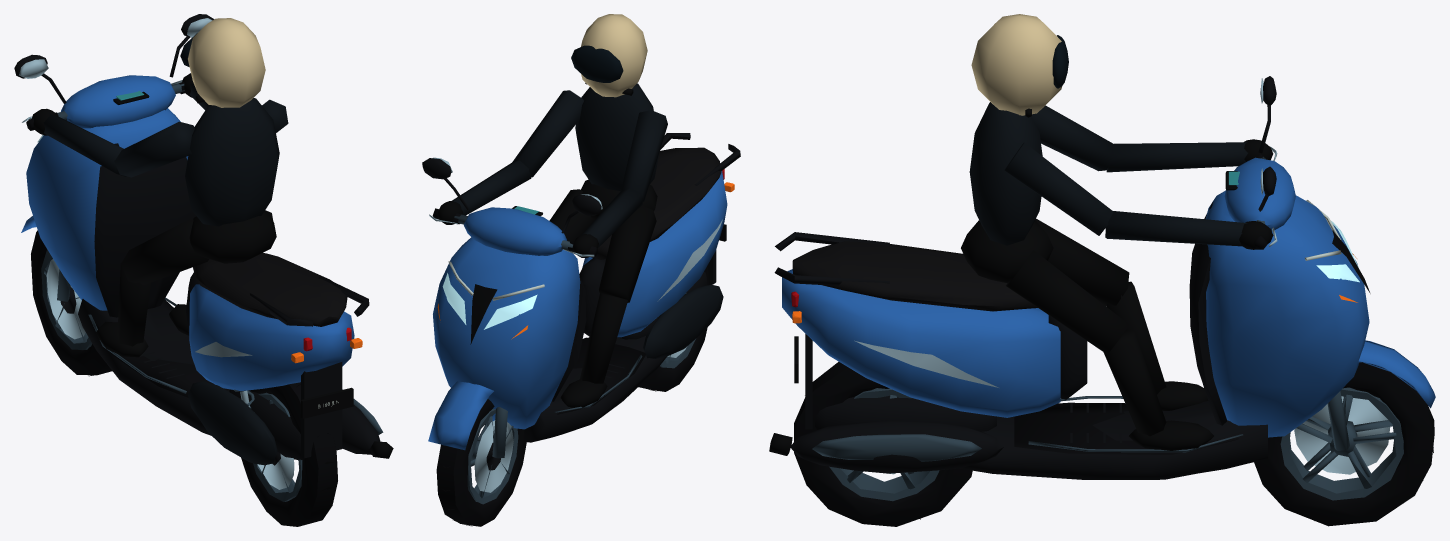
Rendered from Body_LOD1.fbx.
3 renders of one model, left to right at view 1: azimuth 30°, elevation 25°; view 2: azimuth 150°, elevation 25°; view 3: azimuth 270°, elevation 25°, orthographic. The views are drawn at different scales.
Parts seen in each view (by area): view 1: Body_Mesh, Helmeted_Traffic_Rider, Wheel_Rear_Mesh, Steering_Pivot_Mesh, Wheel_Front_Mesh; view 2: Body_Mesh, Helmeted_Traffic_Rider, Steering_Pivot_Mesh, Wheel_Front_Mesh, Wheel_Rear_Mesh, Headlights_Mesh; view 3: Body_Mesh, Helmeted_Traffic_Rider, Wheel_Front_Mesh, Wheel_Rear_Mesh, Steering_Pivot_Mesh, Headlights_Mesh.
Boxes of the visible parts, x1,y1,x2,y2 form: Body_Mesh: (26,108,393,465); Helmeted_Traffic_Rider: (31,18,288,357); Wheel_Rear_Mesh: (241,382,337,526); Steering_Pivot_Mesh: (14,14,214,301); Wheel_Front_Mesh: (31,230,112,376); Body_Mesh: (433,133,740,442); Helmeted_Traffic_Rider: (437,14,667,407); Steering_Pivot_Mesh: (422,157,602,458); Wheel_Front_Mesh: (436,399,526,526); Wheel_Rear_Mesh: (638,266,712,391); Headlights_Mesh: (442,261,544,329); Body_Mesh: (769,190,1370,479); Helmeted_Traffic_Rider: (961,14,1273,450); Wheel_Front_Mesh: (1254,362,1434,526); Wheel_Rear_Mesh: (794,361,972,526); Steering_Pivot_Mesh: (1224,76,1435,450); Headlights_Mesh: (1305,200,1359,282).
Bounding box in the file's own units: 71.79 × 156 × 187.
